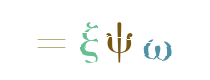5: (62, 0, 142, 80)
C: (79, 0, 159, 80)
J: (64, 0, 144, 80)
V: (84, 0, 164, 80)
